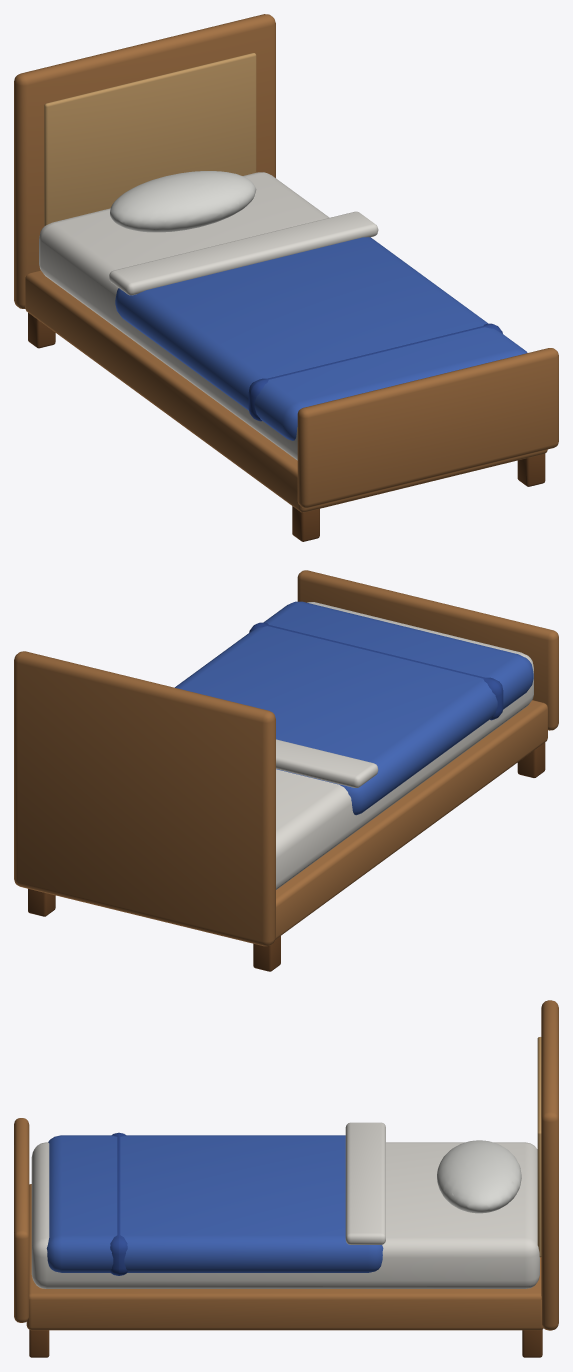
File: bed_single.glb
3 renders of one model, top to bottom at view 1: azimuth 30°, elevation 25°; view 2: azimuth 150°, elevation 25°; view 3: azimuth 270°, elevation 25°, orthographic. The views are drawn at different scales.
Parts seen in each view (by area): view 1: bed_single; view 2: bed_single; view 3: bed_single.
Part boxes in pixels (box(x1,y1,x2,y2)): bed_single: box(14, 14, 558, 541); bed_single: box(14, 570, 558, 971); bed_single: box(14, 1000, 558, 1357).
Bounding box in the file's own units: 1.1 × 1.08 × 2.15.
